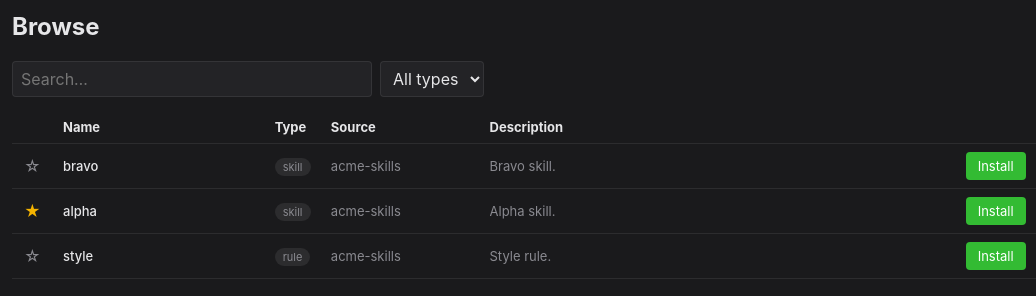
Test: Browse — sorting › sorts by Name ascending on first click and descending on second click
The width and height of the screenshot is (1036, 296).
Check: the link "alpha" is shown, box left=63, top=203, right=97, bottom=219
Click the button "Name" at (82, 127), box left=63, top=119, right=100, bottom=135
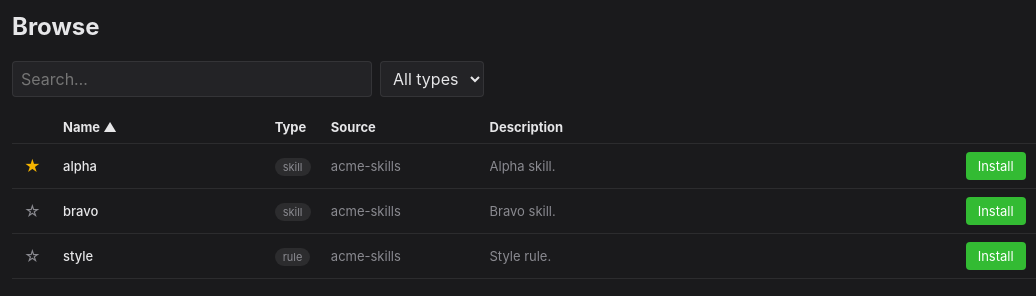
Check: the button "Name ▲" is shown
Click the button "Name ▲" at (90, 127), box left=63, top=119, right=117, bottom=135
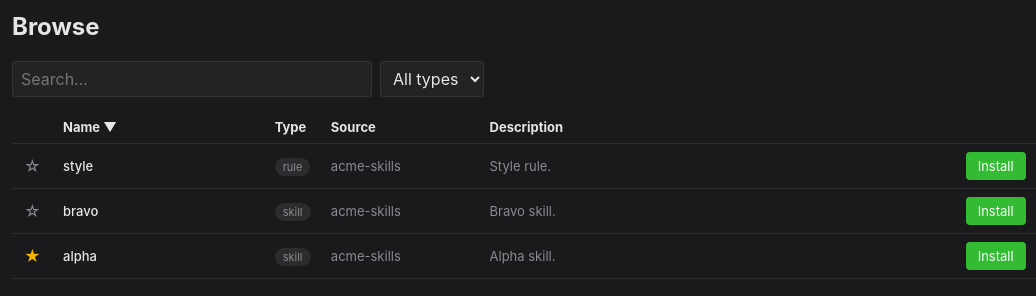
Check: the button "Name ▼" is shown, box left=63, top=119, right=117, bottom=135
